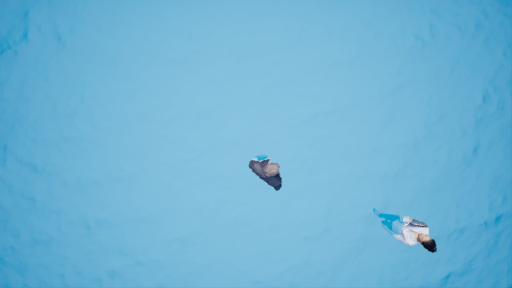person: (375, 208, 437, 254), (247, 157, 291, 193)
